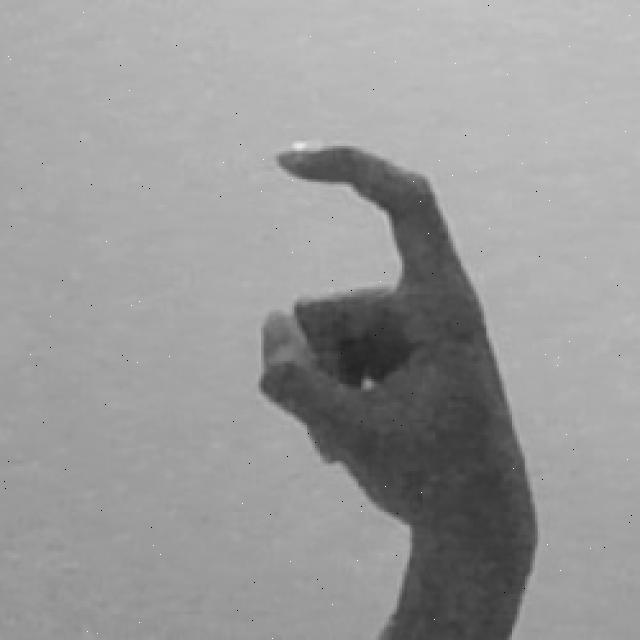X: (246, 135, 541, 640)
